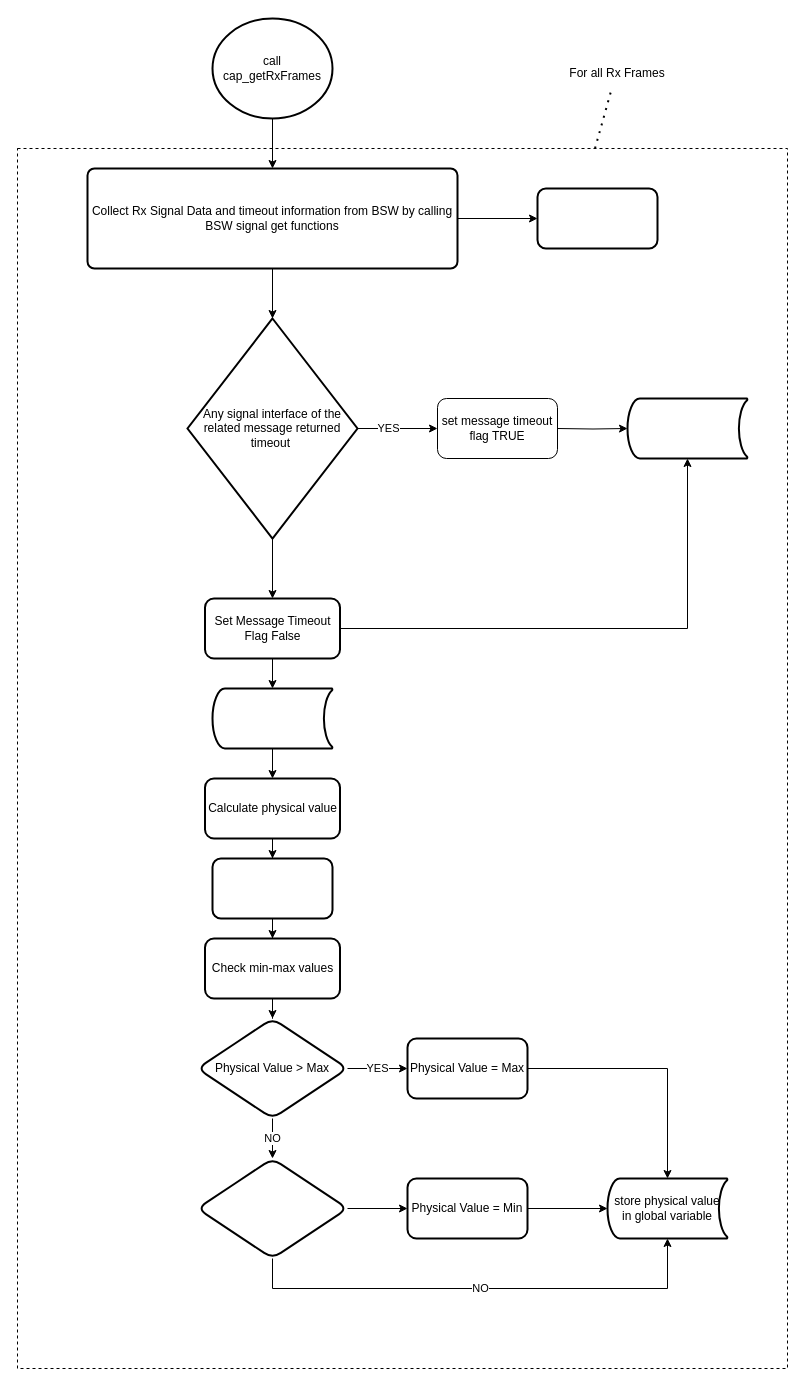
Some shapes in this 805 by 1386 pixel diagram are drawn without their labels. The shapes that lost their labels are listed below. From the top down, each one's centre as x and y in pixels, then its label:
At (x=597, y=218): "store raw value in local variable".
At (x=687, y=428): "store Rx Timeout status in global variable".
At (x=272, y=718): "store raw value in global variable".
At (x=272, y=888): "store physical value in local variable".
At (x=272, y=1208): "Physical Value < Min".
